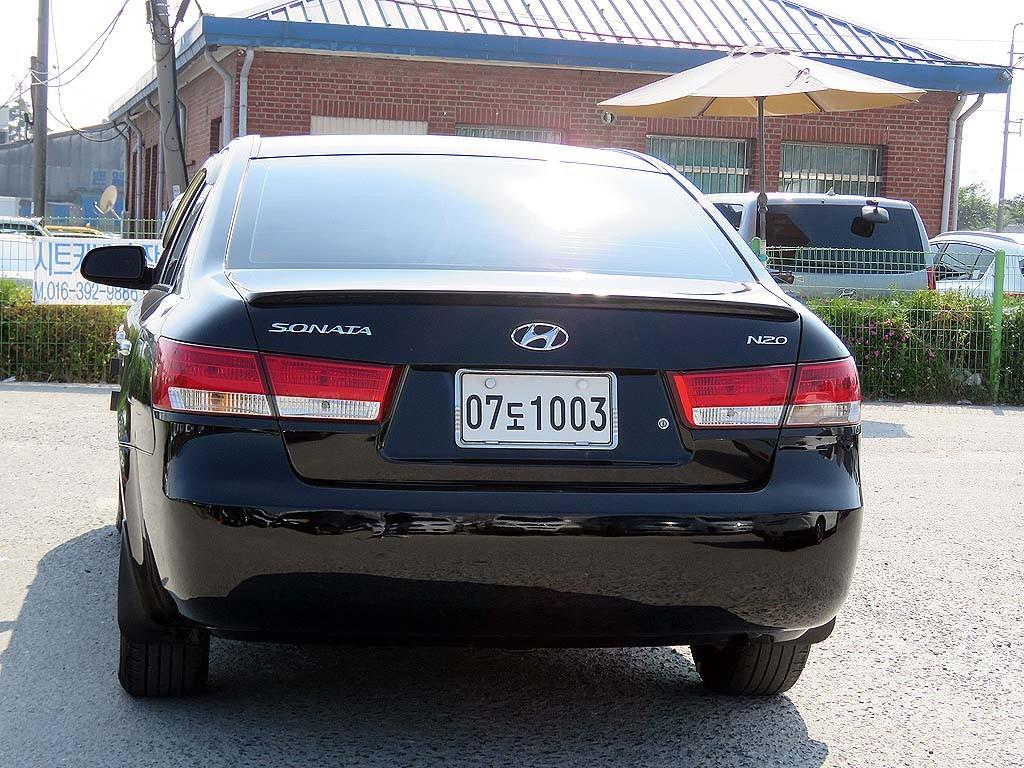plate: (460, 373, 612, 445)
